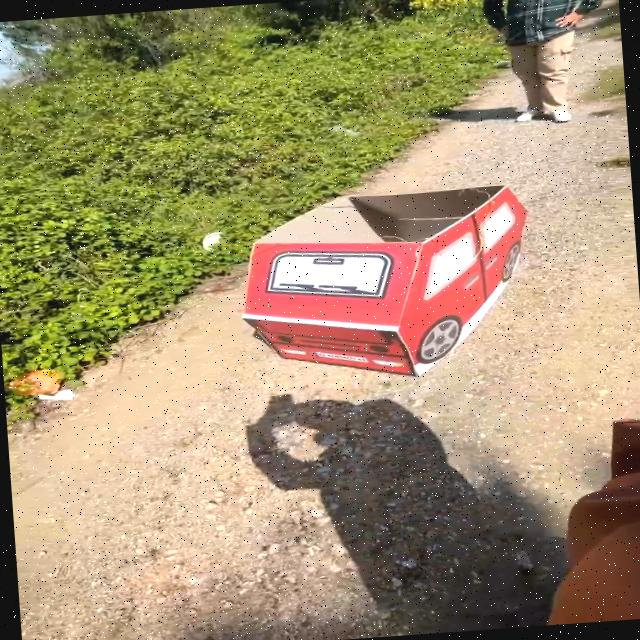red_car: (230, 162, 549, 407)
